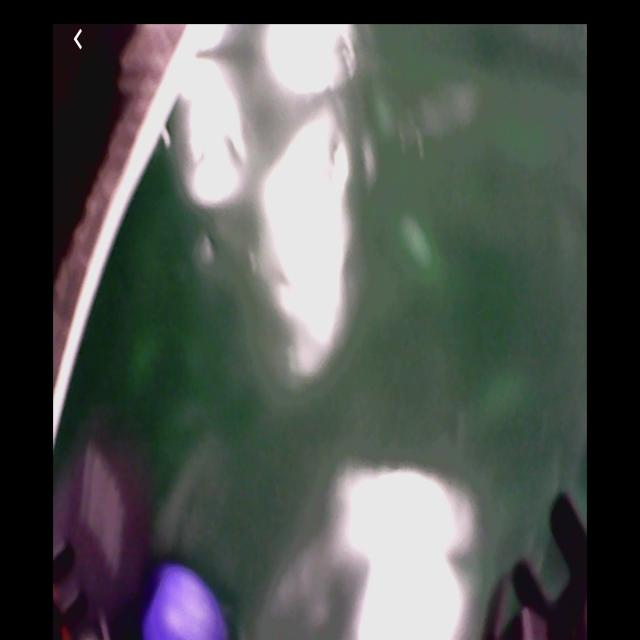ball: (140, 566, 229, 640)
